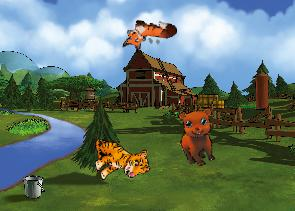bear: (170, 102, 229, 170)
fox: (121, 16, 177, 57)
tiger: (89, 130, 151, 185)
